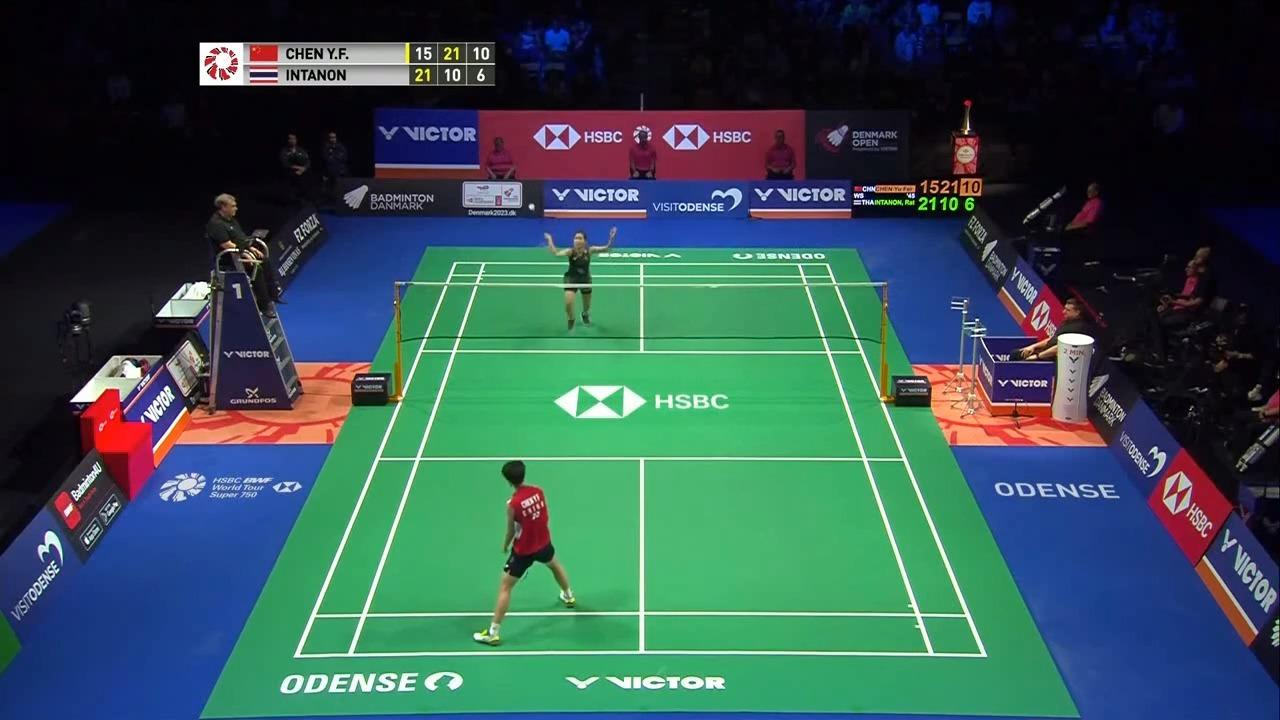shuttle: (525, 201, 540, 214)
